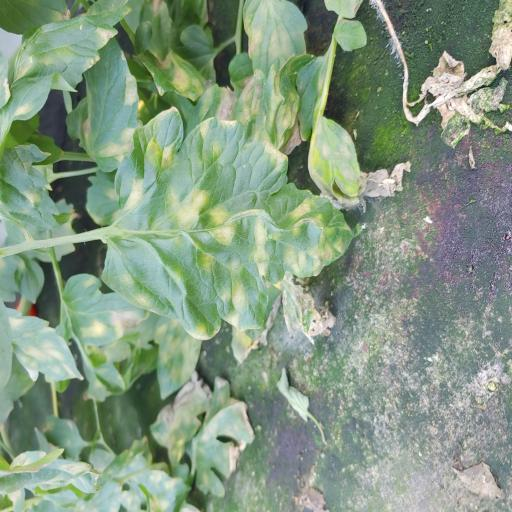disease_tomato: (104, 107, 356, 341)
